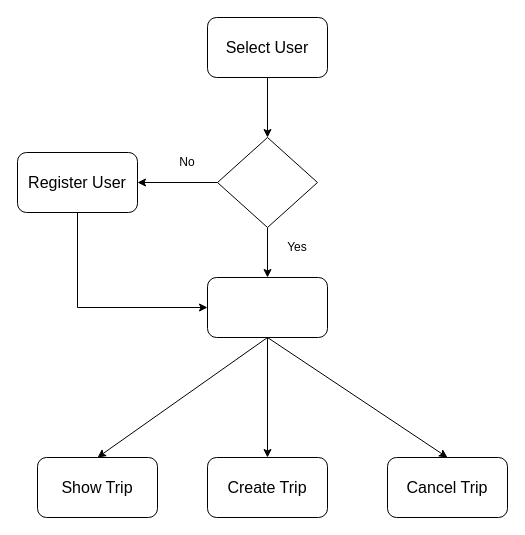
Some shapes in this 525 by 535 pixel diagram are drawn without their labels. The centre of each missing label's shape, as x and y in pixels:
Is user registered?: [267,182]
Select Action: [267,307]
